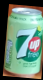sevenup: (4, 8, 42, 74)
